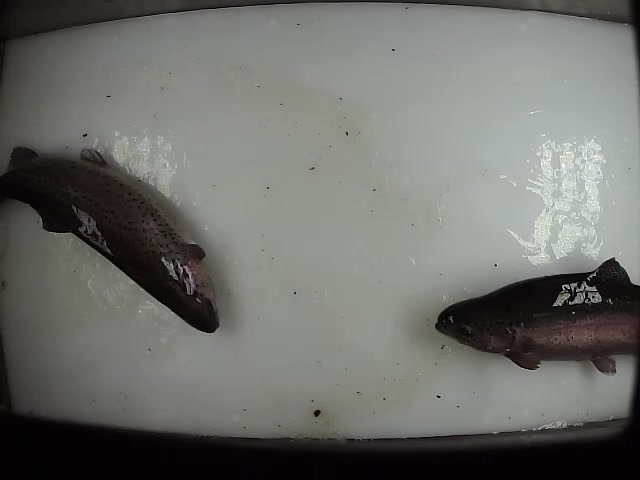fish: (1, 143, 221, 336), (432, 255, 640, 378)
